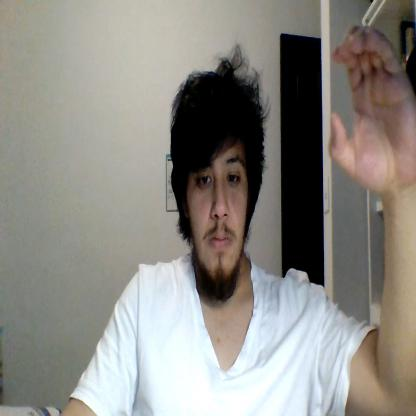C: (328, 22, 415, 189)
